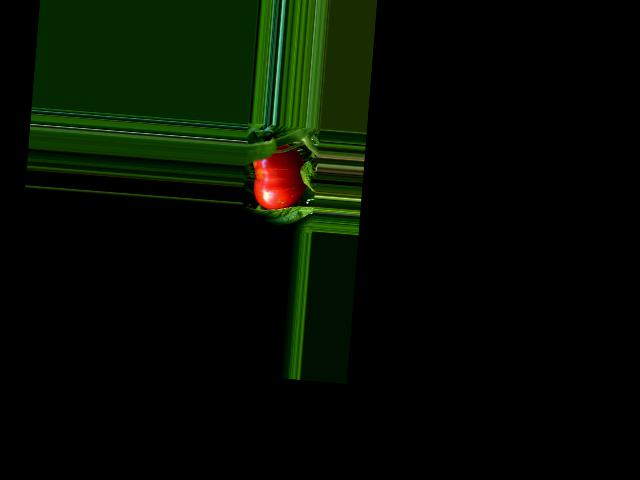tomato: (249, 141, 308, 212)
